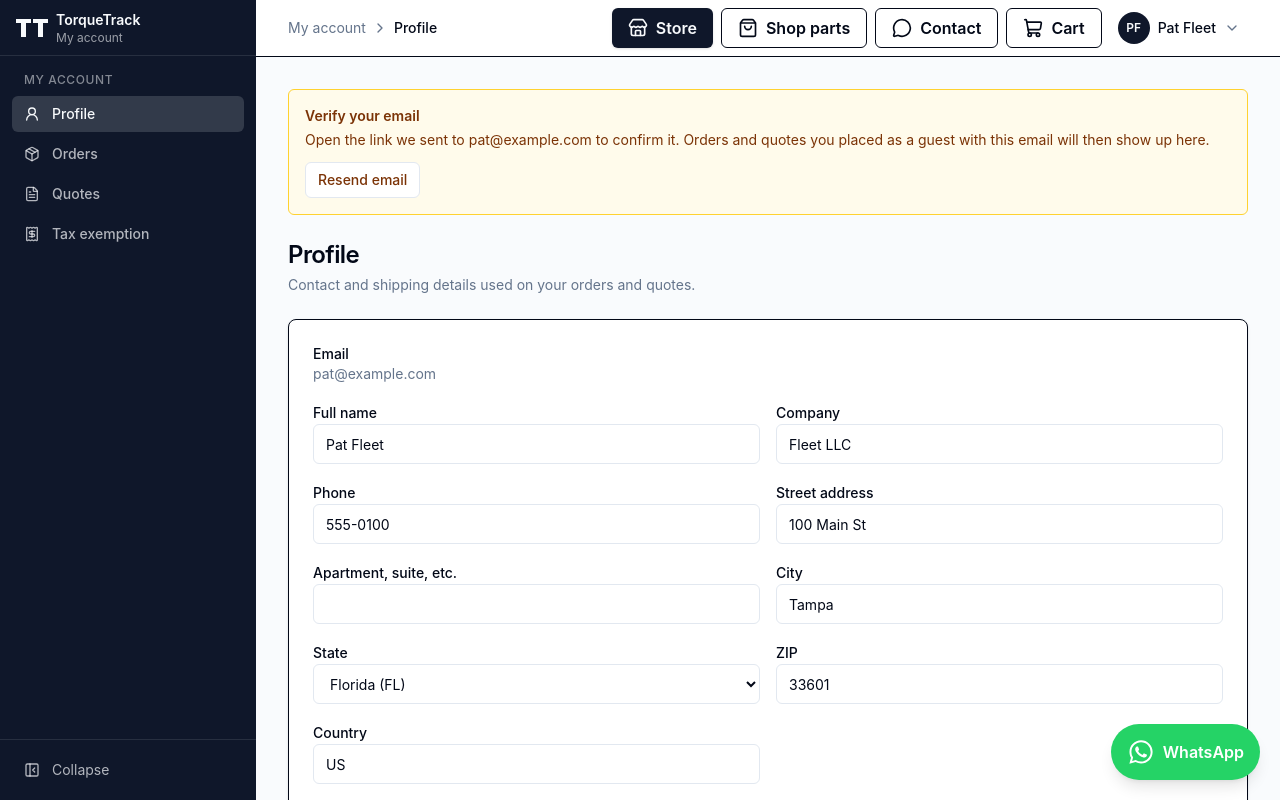
Test case: PortalPage › asks an unverified customer to verify and resends the email
The image size is (1280, 800).
Check: the text "Verify your email" is shown, box [305,107,420,124]
Click the button "Resend email": click(363, 180) [305,162,420,198]
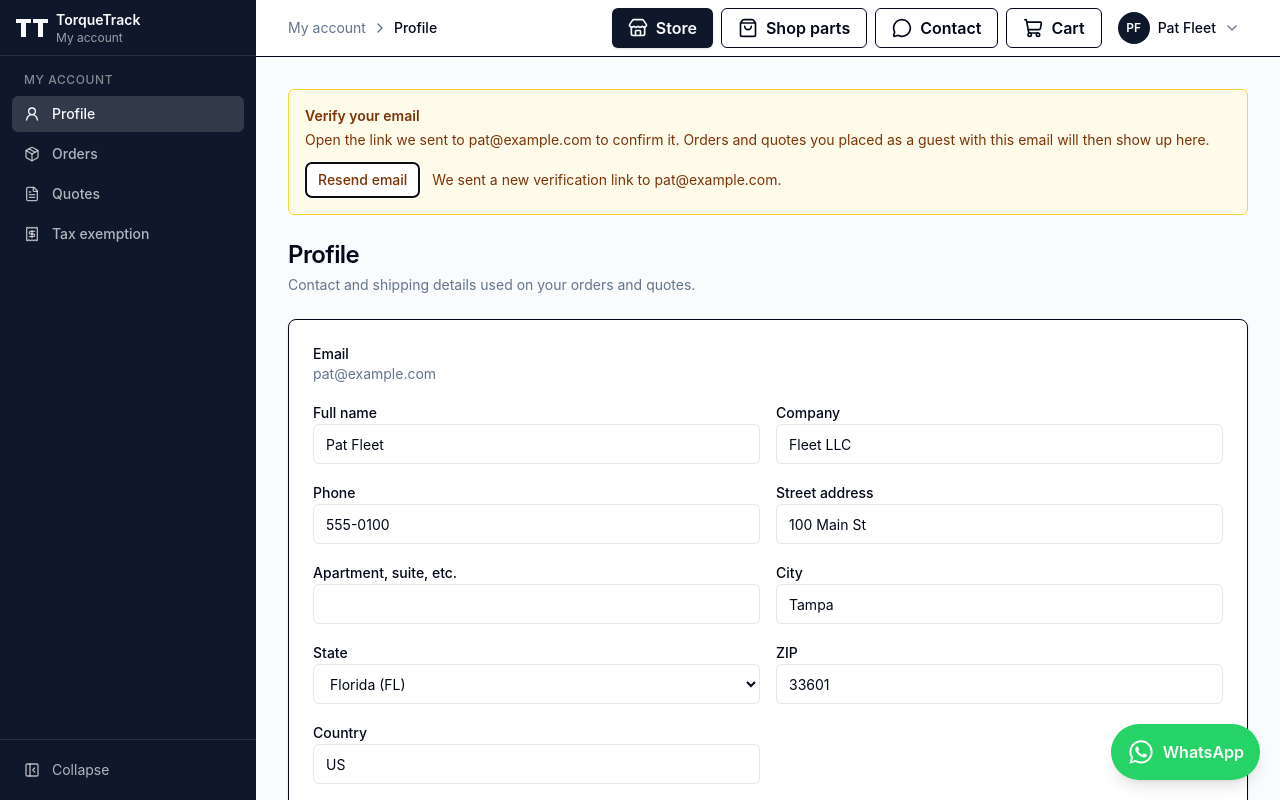
Check: the text "We sent a new verification link to pat@example.com." is shown, box [432,170,782,190]
